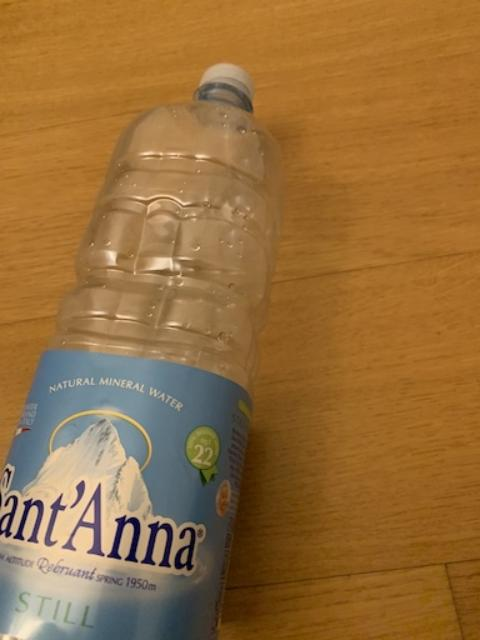plastic: (0, 62, 279, 638)
